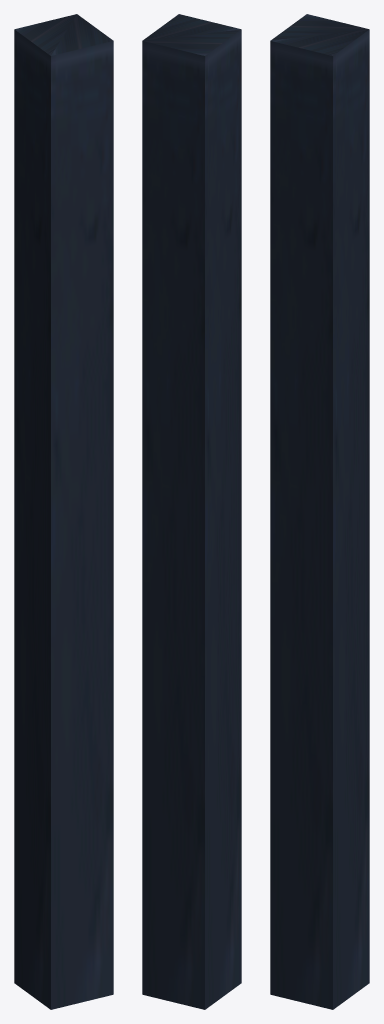
The model's file is 10109_boss11.FBX.
The picture shows the model from 3 angles, left to right: view 1: azimuth 30°, elevation 25°; view 2: azimuth 150°, elevation 25°; view 3: azimuth 330°, elevation 25°; orthographic projection.
Visible parts, largest first — view 1: 10109_boss11; view 2: 10109_boss11; view 3: 10109_boss11.
Boxes of the visible parts, <box> form: 10109_boss11: <box>14,14,113,1009</box>; 10109_boss11: <box>142,14,241,1009</box>; 10109_boss11: <box>270,14,369,1009</box>.
Size of the model in its own units: 217 by 3149 by 219.
